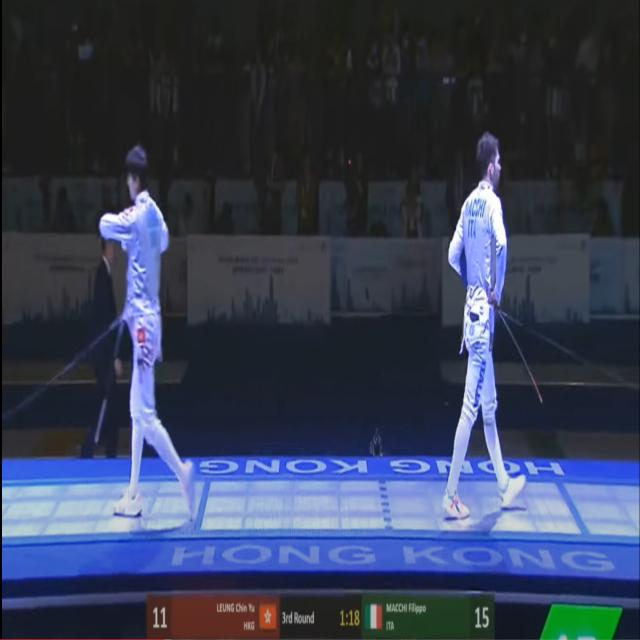fencer: (96, 141, 198, 533), (449, 142, 530, 538)
overlayLeft: (172, 596, 280, 640)
overlayRight: (363, 596, 469, 640)
scoreLeft: (147, 594, 175, 640)
scoreRight: (463, 594, 495, 640)
